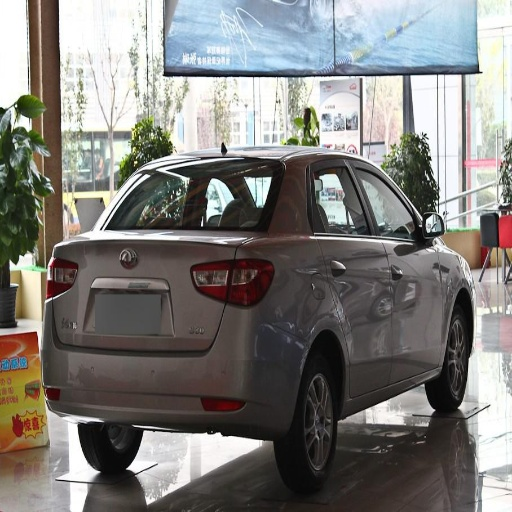back_bumper: (38, 303, 307, 436)
back_right_door: (306, 155, 394, 396)
tailgate: (105, 291, 215, 353), (52, 238, 95, 342)
trunk: (50, 233, 252, 353)
